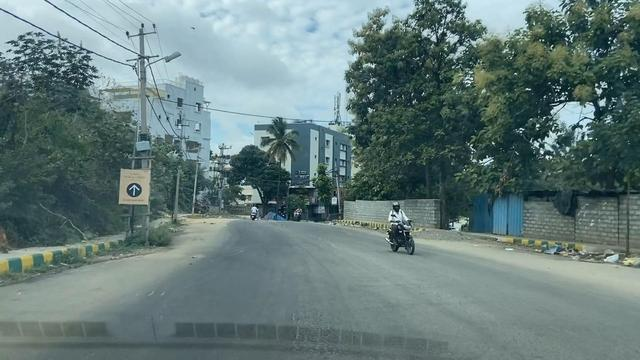LMV: (372, 187, 429, 257)
RoadDamages: (241, 298, 369, 360)
